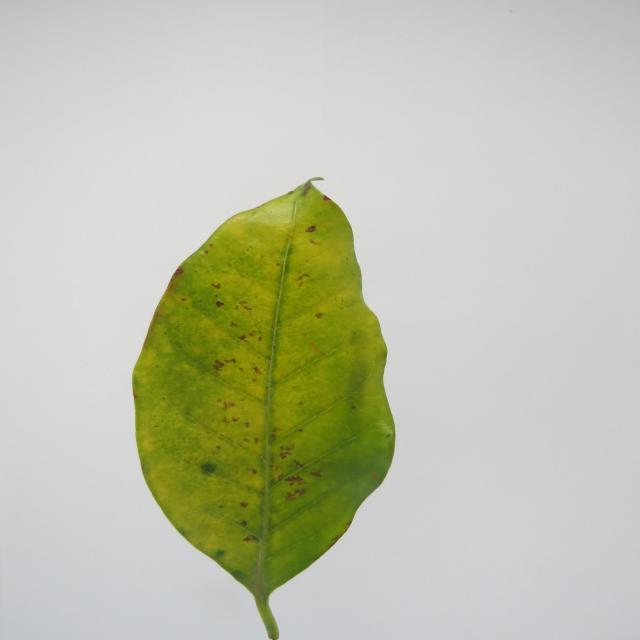DeficienciaNutricional-Nitrogeno: (133, 180, 395, 640)
